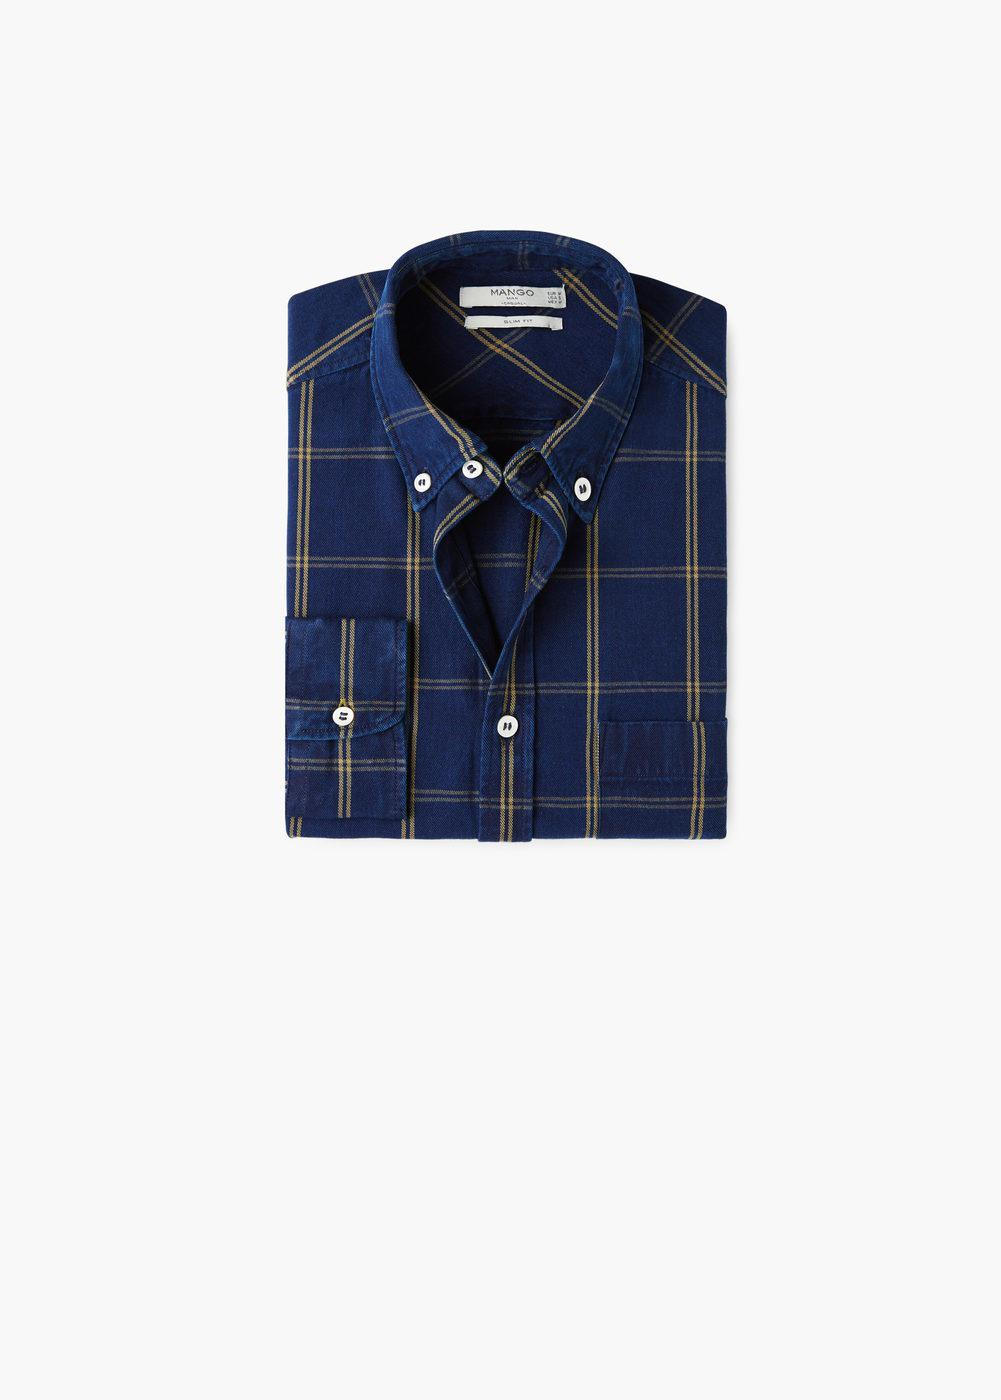teeshirt: (257, 204, 757, 872)
